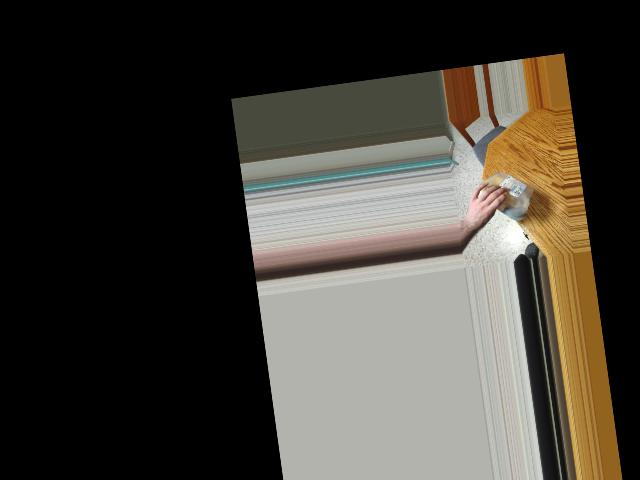cheese: (470, 166, 539, 225)
